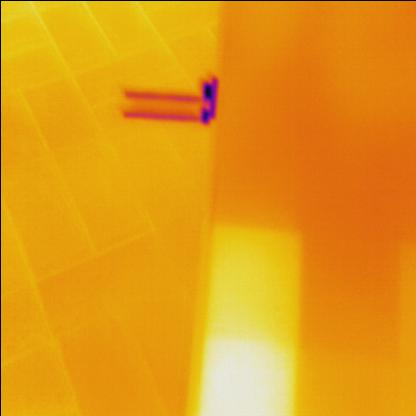hotspot: (193, 226, 302, 416)
